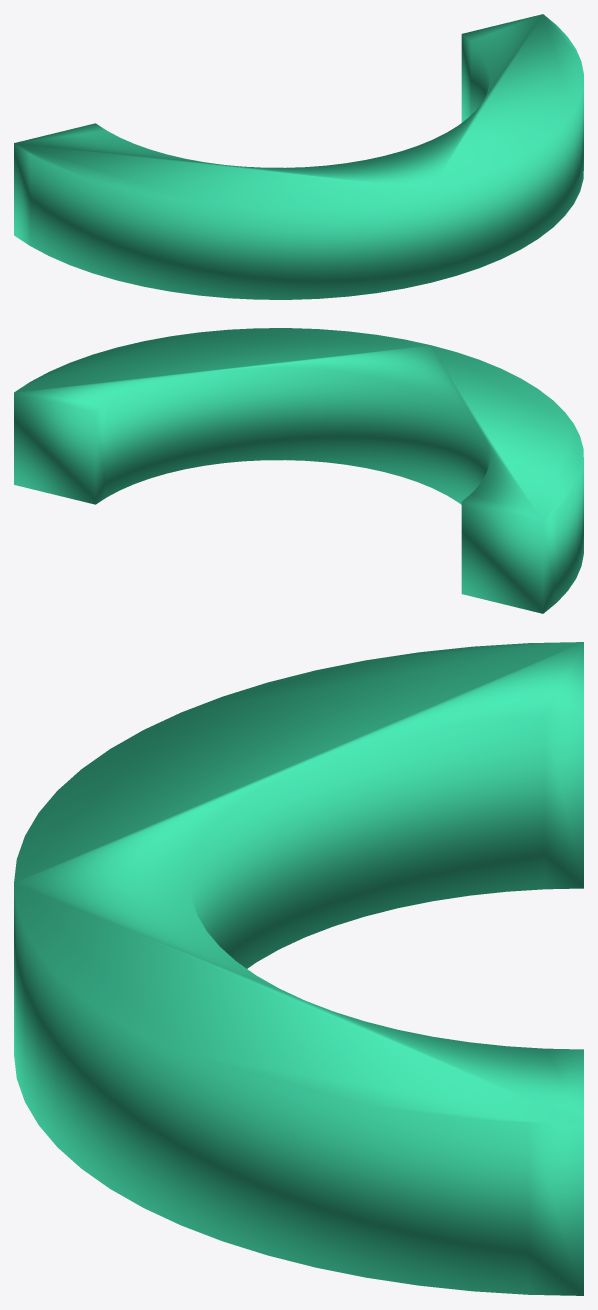
File: table_11.glb
3 views of the same model, one above another, from view 1: azimuth 30°, elevation 25°; view 2: azimuth 150°, elevation 25°; view 3: azimuth 270°, elevation 25° (orthographic). The views are drawn at different scales.
Visible parts, largest first — view 1: table_circle_001.001; view 2: table_circle_001.001; view 3: table_circle_001.001.
Part boxes in pixels (bbox=[...]): table_circle_001.001: bbox=[14, 14, 583, 299]; table_circle_001.001: bbox=[14, 328, 583, 613]; table_circle_001.001: bbox=[14, 642, 583, 1295].
Size of the model in its own units: 4.29 by 0.7147 by 2.14.
